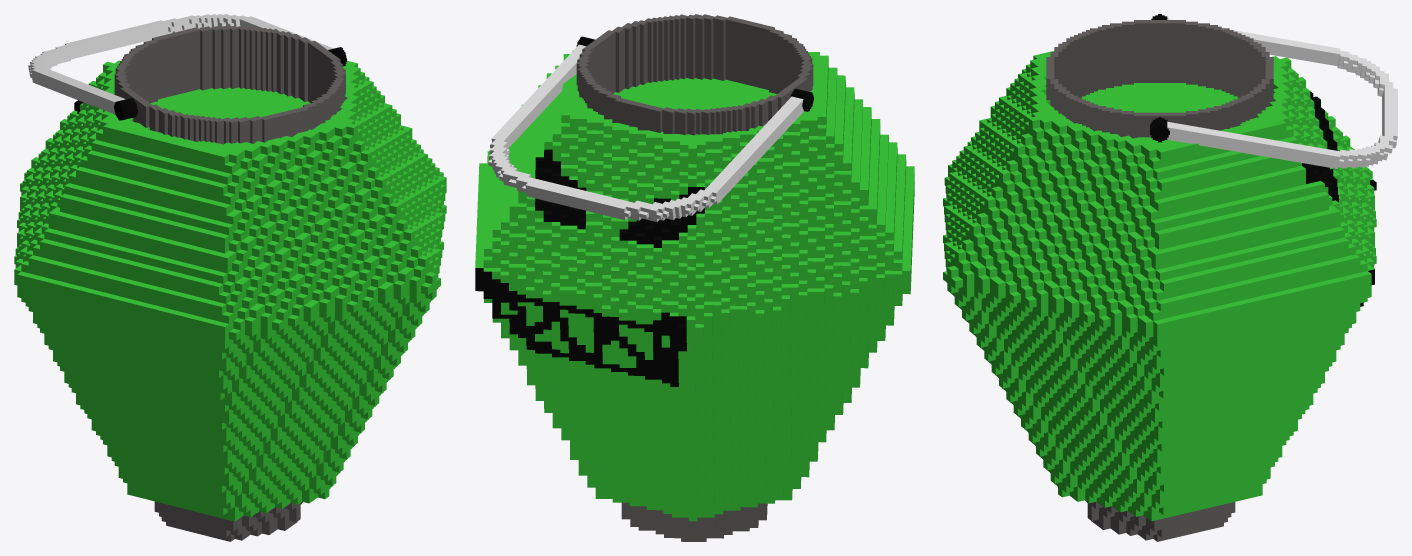
Rendered from LimeLanturn.fbx.
3 views of the same model, side by side, from view 1: azimuth 30°, elevation 25°; view 2: azimuth 150°, elevation 25°; view 3: azimuth 270°, elevation 25° (orthographic). The views are drawn at different scales.
Visible parts, largest first — view 1: Cone.001, Cylinder, Vert, Cylinder.001; view 2: Cone.001, Cylinder, Vert; view 3: Cone.001, Cylinder, Vert.
Boxes of the visible parts, left/top/right/bottom form: Cone.001: left=14, top=60, right=446, bottom=541; Cylinder: left=114, top=25, right=345, bottom=144; Vert: left=28, top=14, right=333, bottom=114; Cylinder.001: left=114, top=47, right=346, bottom=120; Cone.001: left=475, top=50, right=914, bottom=541; Cylinder: left=576, top=14, right=813, bottom=135; Vert: left=488, top=44, right=803, bottom=222; Cone.001: left=943, top=51, right=1376, bottom=541; Cylinder: left=1046, top=20, right=1273, bottom=138; Vert: left=1167, top=19, right=1397, bottom=168.
Bounding box in the file's own units: 391 × 385 × 359.
